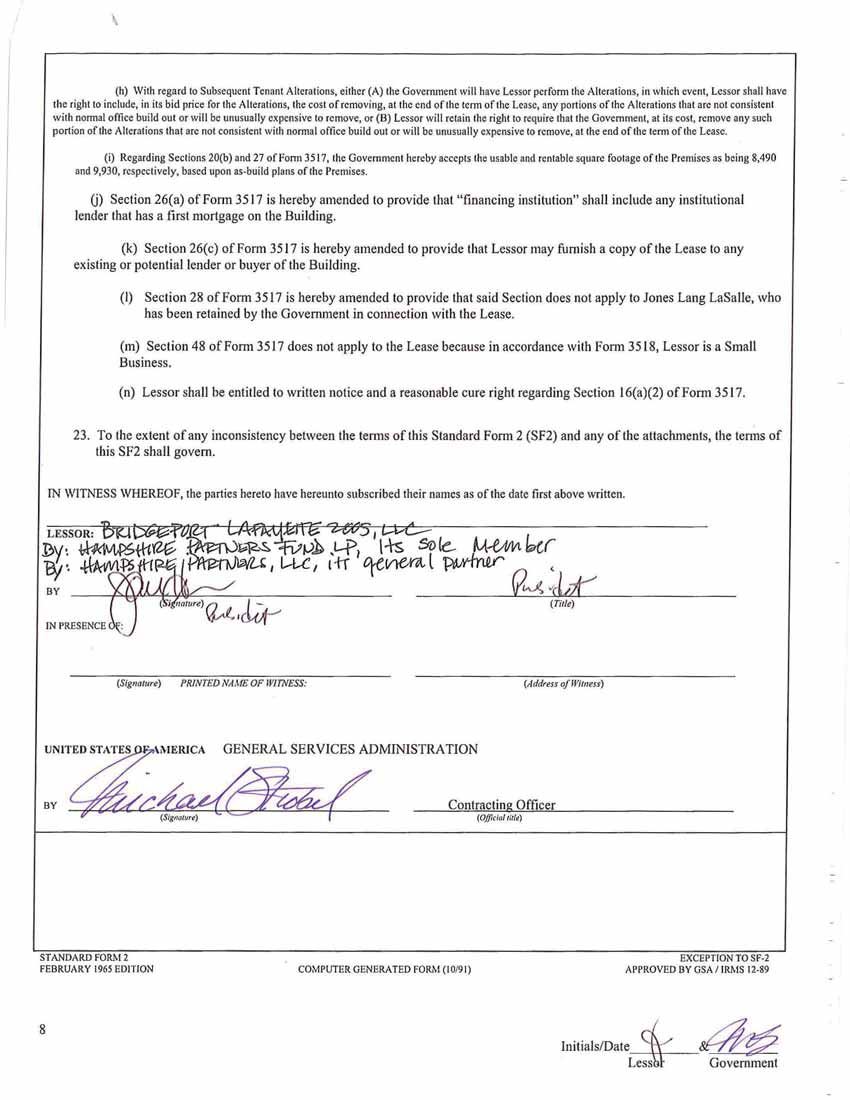handwritten: (38, 541, 615, 592), (66, 758, 379, 822), (93, 568, 288, 624), (97, 520, 458, 537), (705, 997, 792, 1061), (198, 600, 292, 631), (637, 1009, 670, 1060)
